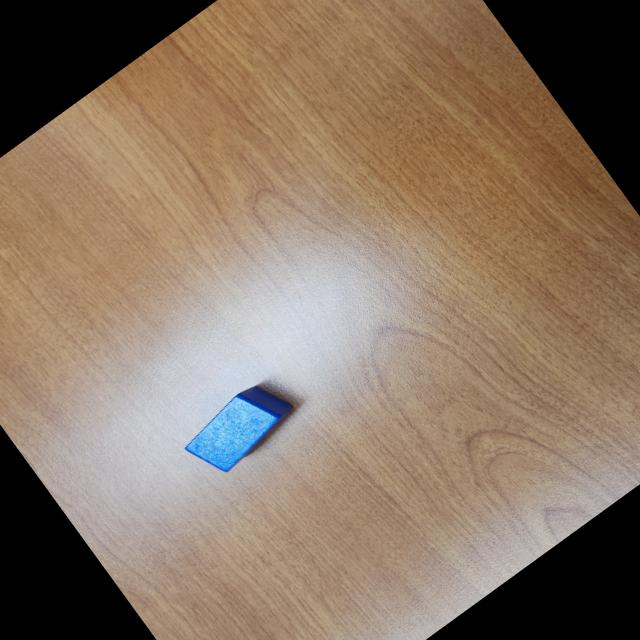blue: (176, 369, 306, 486)
